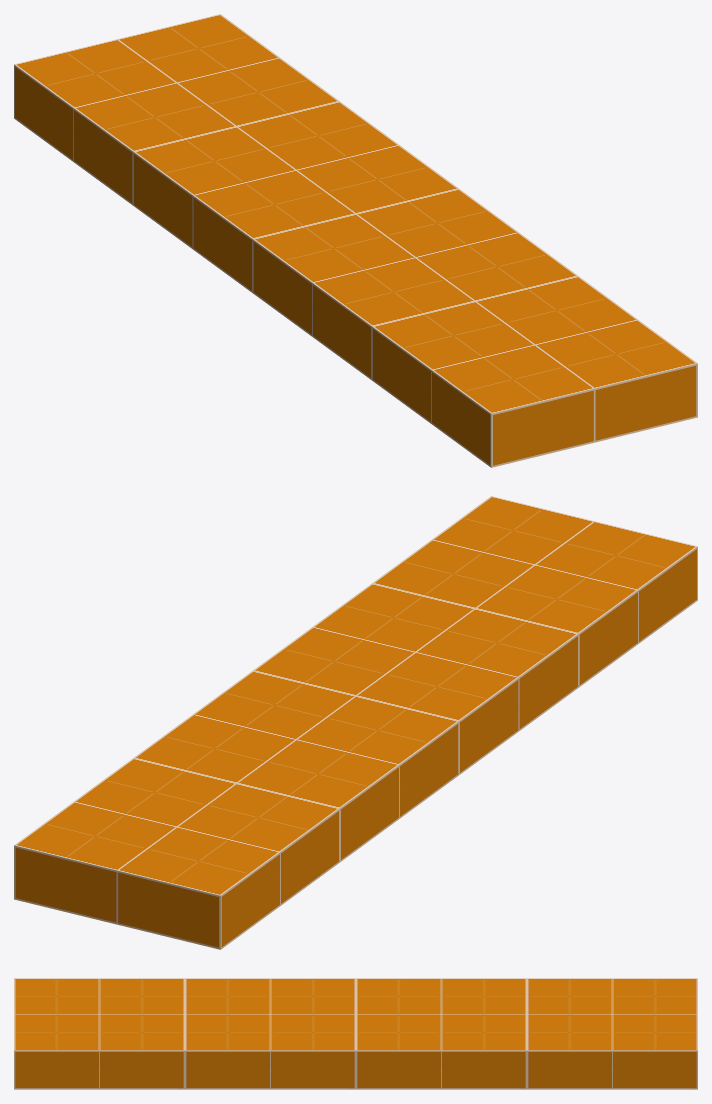
Rendered from Plate4_1x4.obj.
3 views of the same model, one above another, from view 1: azimuth 30°, elevation 25°; view 2: azimuth 150°, elevation 25°; view 3: azimuth 270°, elevation 25° (orthographic). The views are drawn at different scales.
Visible parts, largest first — view 1: Plate4_1x4_Cube.323; view 2: Plate4_1x4_Cube.323; view 3: Plate4_1x4_Cube.323.
Boxes of the visible parts, x1,y1,x2,y2 form: Plate4_1x4_Cube.323: (14,14,697,467); Plate4_1x4_Cube.323: (14,496,697,949); Plate4_1x4_Cube.323: (14,978,697,1089).
Bounding box in the file's own units: 1 × 0.25 × 4.
Materials: 1 (1 with a texture image).
